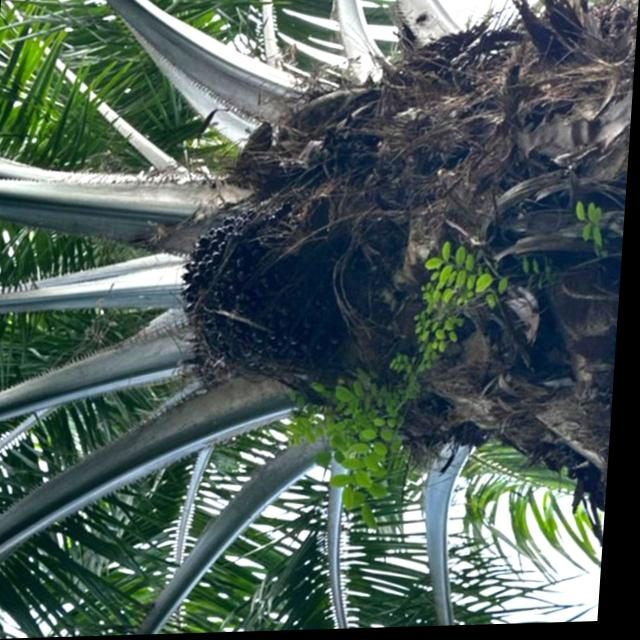almost: (173, 206, 364, 380)
